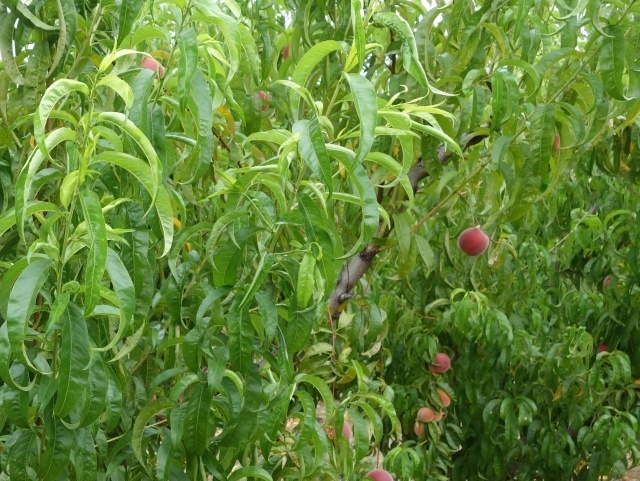peach: (455, 223, 492, 258), (139, 52, 167, 83), (425, 350, 453, 377), (429, 384, 454, 410), (414, 403, 436, 424), (410, 418, 430, 439), (365, 467, 395, 481)
